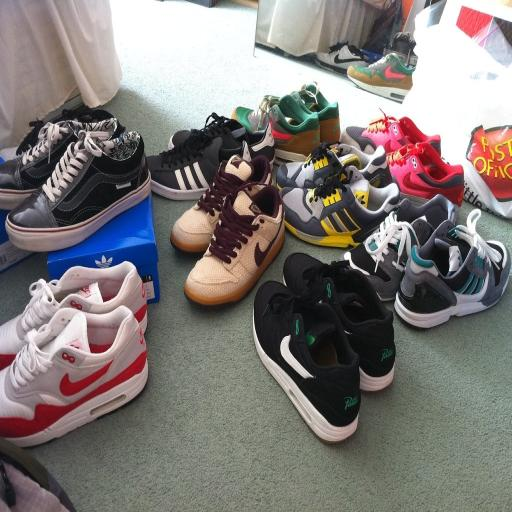shoe: (0, 306, 148, 446), (253, 280, 361, 443), (6, 130, 150, 252), (0, 261, 148, 369), (283, 252, 396, 392), (394, 209, 510, 328), (340, 194, 458, 301), (0, 111, 126, 210), (184, 185, 284, 306), (147, 114, 274, 200), (170, 155, 273, 253), (280, 167, 400, 248), (232, 82, 340, 163), (150, 112, 274, 170), (232, 94, 321, 164), (16, 104, 124, 156), (276, 142, 394, 189), (387, 142, 465, 207), (340, 114, 441, 154), (346, 53, 416, 102), (291, 82, 340, 142), (314, 41, 372, 75), (384, 32, 418, 66)
